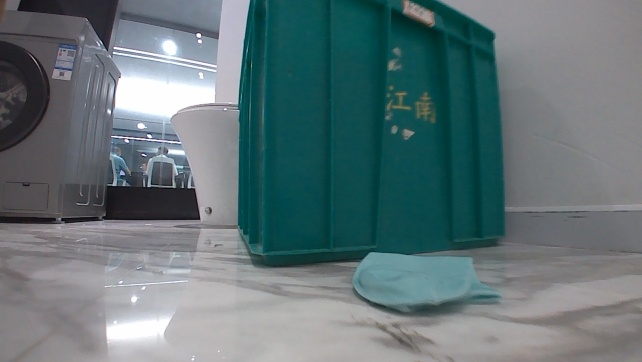socks: (344, 247, 505, 315)
toilet: (162, 101, 239, 225)
washing_machine1: (0, 8, 124, 223)
